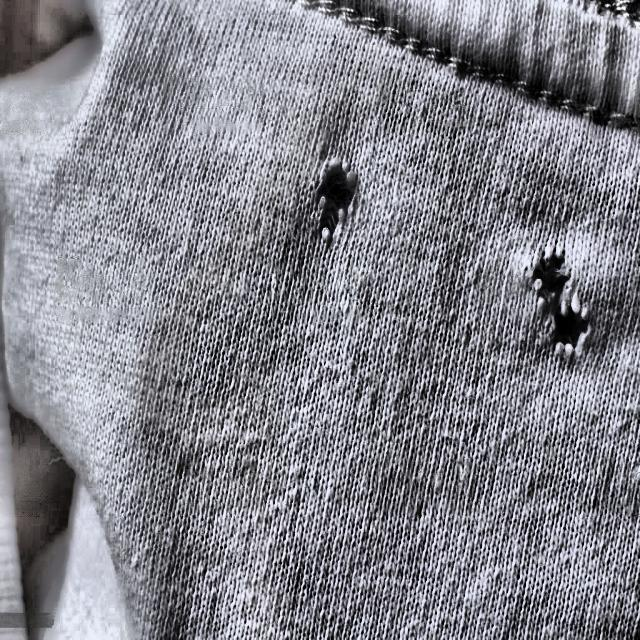cut: (525, 230, 597, 370), (300, 146, 367, 259)
